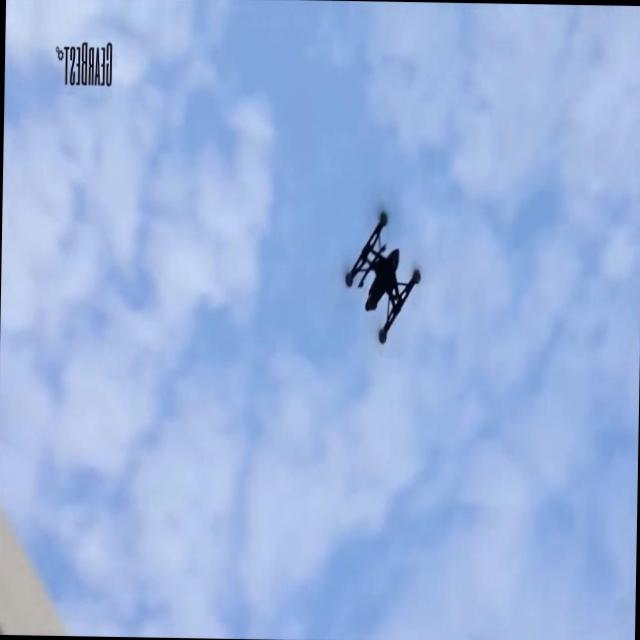drone: (343, 209, 422, 346)
